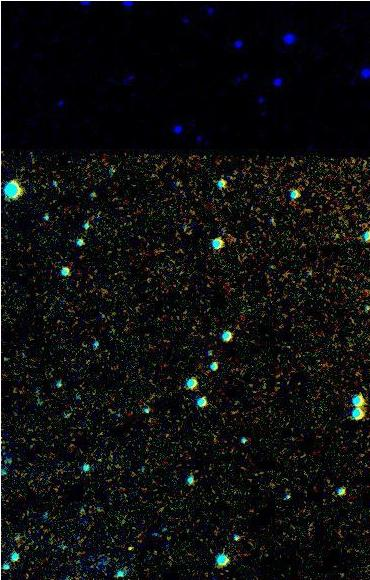star: (114, 534, 144, 564)
